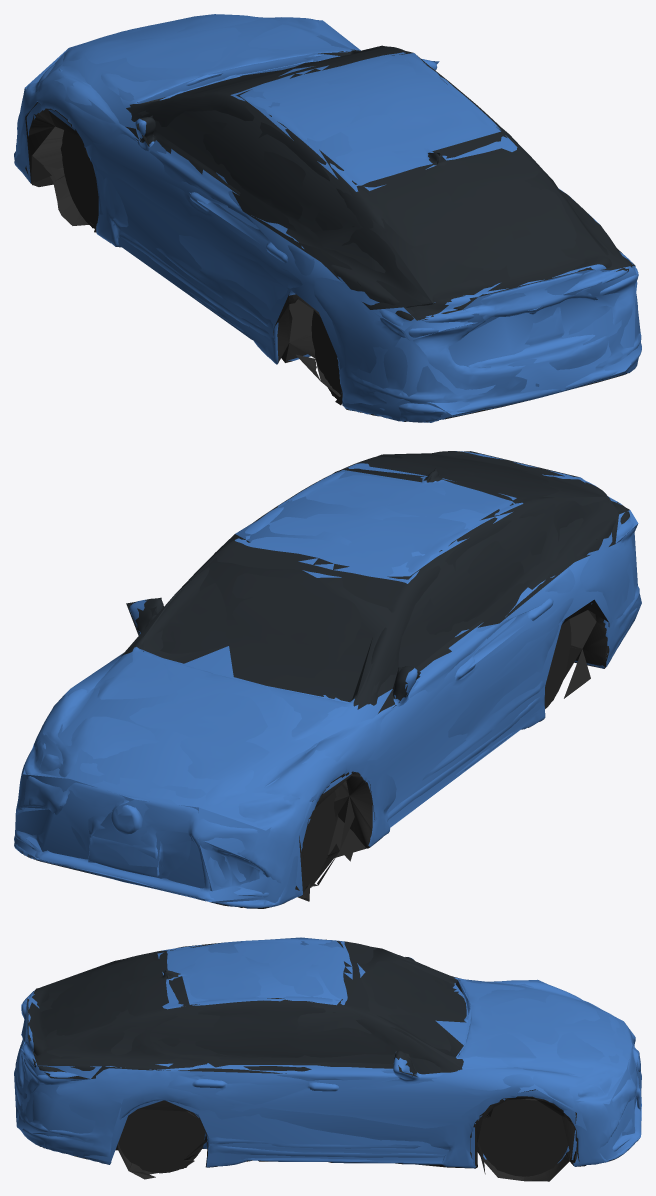
File: lexus-ls.glb
The picture shows the model from 3 angles, top to bottom: view 1: azimuth 30°, elevation 25°; view 2: azimuth 150°, elevation 25°; view 3: azimuth 270°, elevation 25°; orthographic projection. The views are drawn at different scales.
Parts seen in each view (by area): view 1: body, far; view 2: body, far; view 3: body, far.
Part boxes in pixels (<box>): body: <box>14,14,641,422</box>; far: <box>15,14,640,422</box>; body: <box>14,451,639,908</box>; far: <box>14,451,641,902</box>; body: <box>15,939,641,1181</box>; far: <box>14,937,641,1181</box>.
Bounding box in the file's own units: 2.18 × 1.59 × 5.26.
